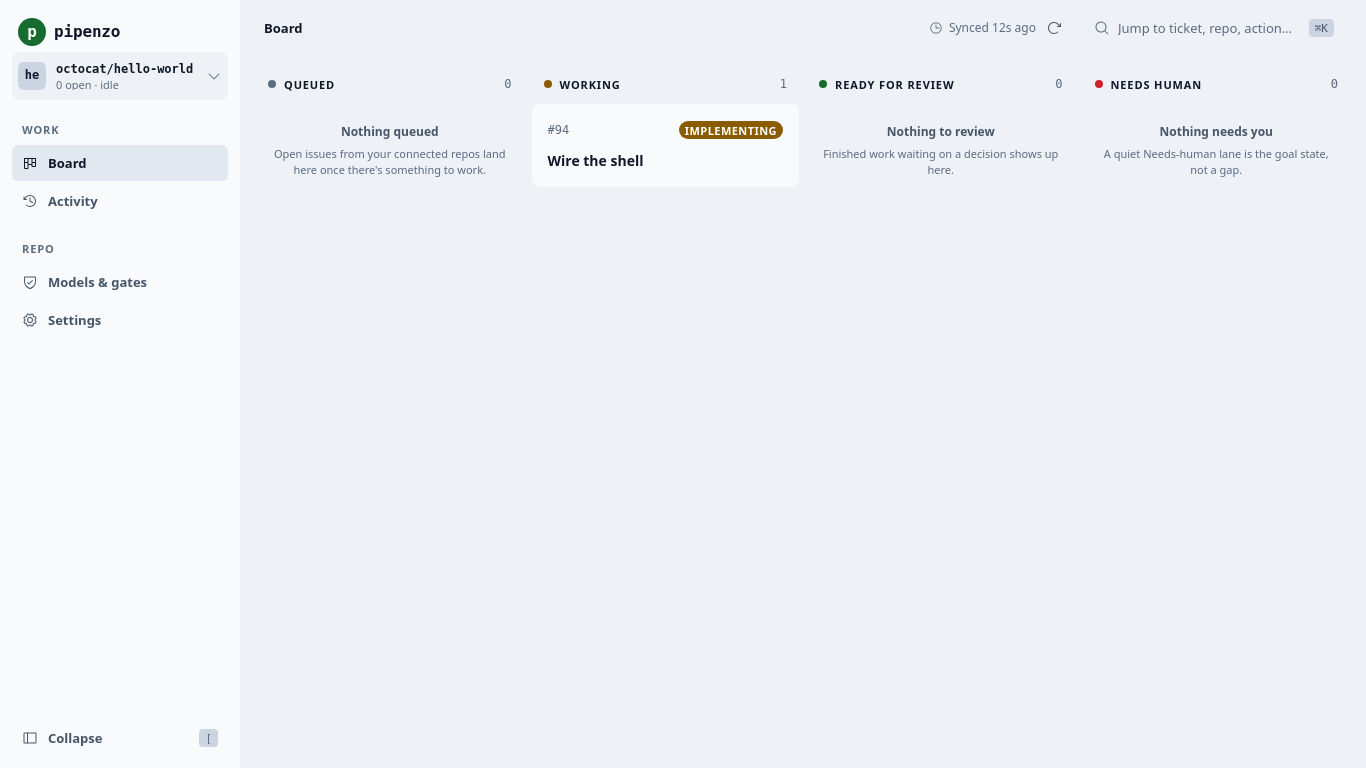
Test: PipenzoAppShell › TicketDetail (issue #341) › opens from a Working card with real rail blocks -- not mocked, not faked
This screenshot has width=1366, height=768.
Click the text "Wire the shell" at (596, 160), box x1=548 y1=151 x2=644 y2=170
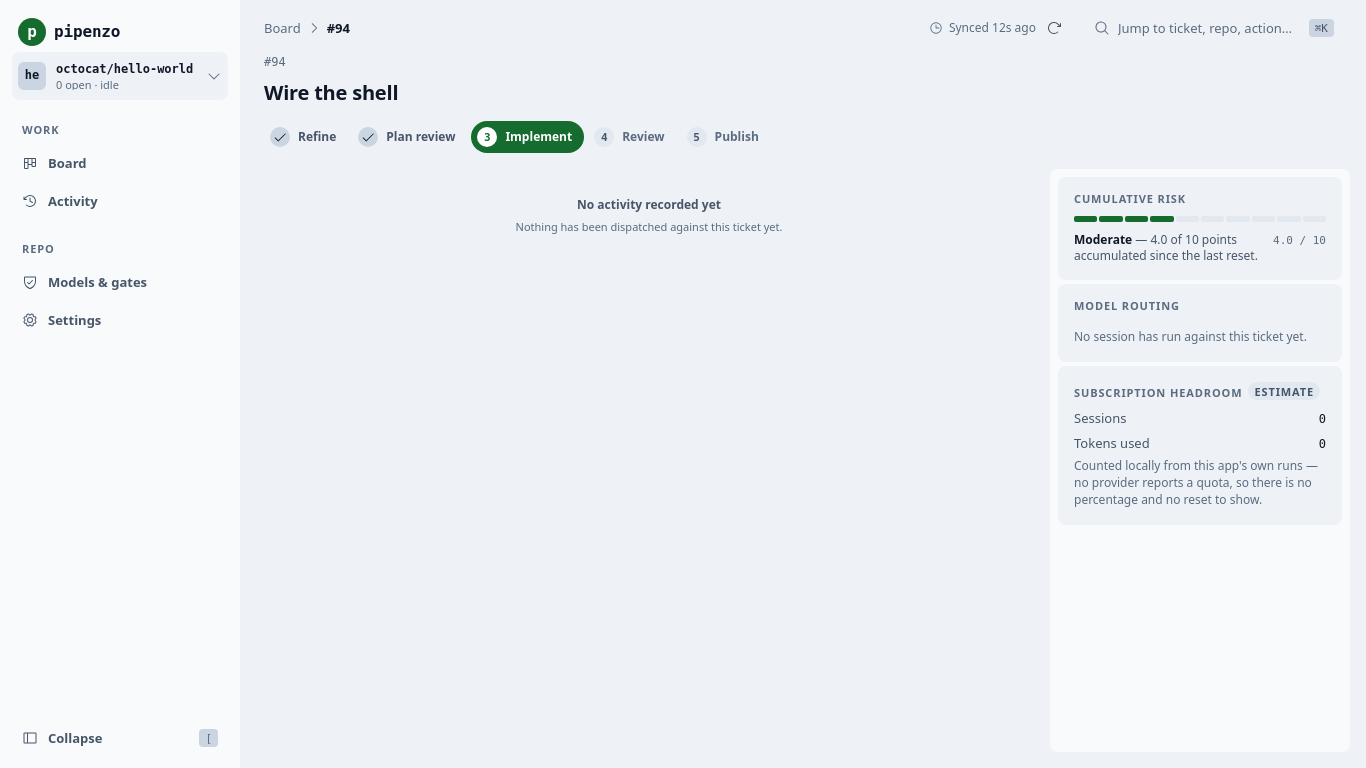
Expected: the text with class "cur" reads "#94", x1=327 y1=18 x2=350 y2=36
Expected: the 2nd text "#94" is shown, x1=264 y1=55 x2=286 y2=69
Expected: the text "Cumulative risk" is shown, x1=1074 y1=191 x2=1186 y2=206
